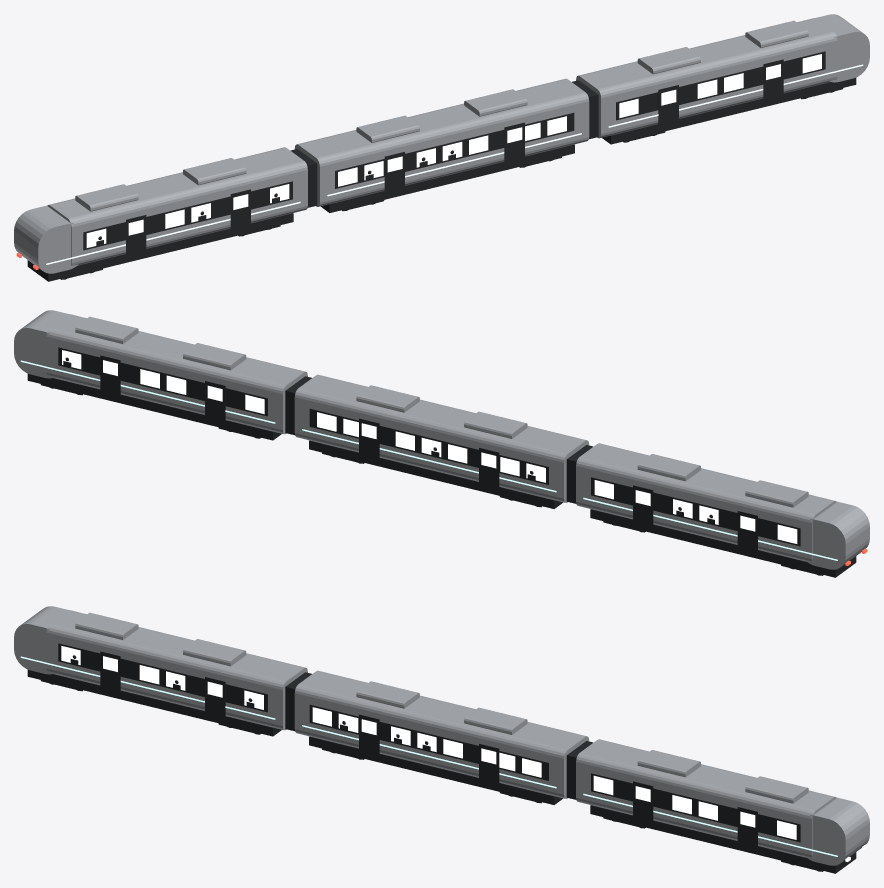
The model's file is train.glb.
3 views of the same model, one above another, from view 1: azimuth 30°, elevation 25°; view 2: azimuth 150°, elevation 25°; view 3: azimuth 330°, elevation 25° (orthographic).
Parts seen in each view (by area): view 1: SM_Train; view 2: SM_Train; view 3: SM_Train.
Boxes of the visible parts, x1,y1,x2,y2 form: SM_Train: (14,14,869,281); SM_Train: (14,310,869,577); SM_Train: (14,606,869,873).
Size of the model in its own units: 55.6 by 4.35 by 2.98.
